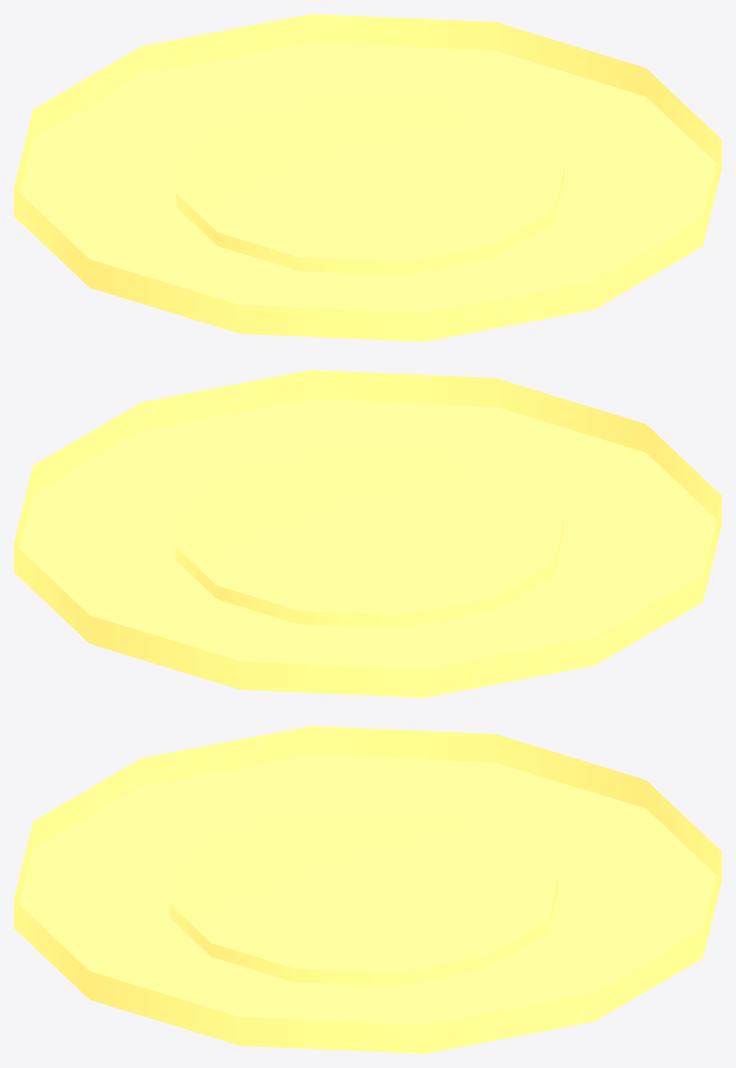
The model's file is SM_Light_Ceiling_02.FBX.
3 renders of one model, top to bottom at view 1: azimuth 30°, elevation 25°; view 2: azimuth 150°, elevation 25°; view 3: azimuth 270°, elevation 25°, orthographic.
Visible parts, largest first — view 1: SM_Light_Ceiling_02; view 2: SM_Light_Ceiling_02; view 3: SM_Light_Ceiling_02.
Part boxes in pixels (x1,y1,x2,y2): SM_Light_Ceiling_02: [14, 14, 721, 341]; SM_Light_Ceiling_02: [14, 370, 721, 697]; SM_Light_Ceiling_02: [14, 726, 721, 1053].
Size of the model in its own units: 11.69 by 11.69 by 0.5218.
